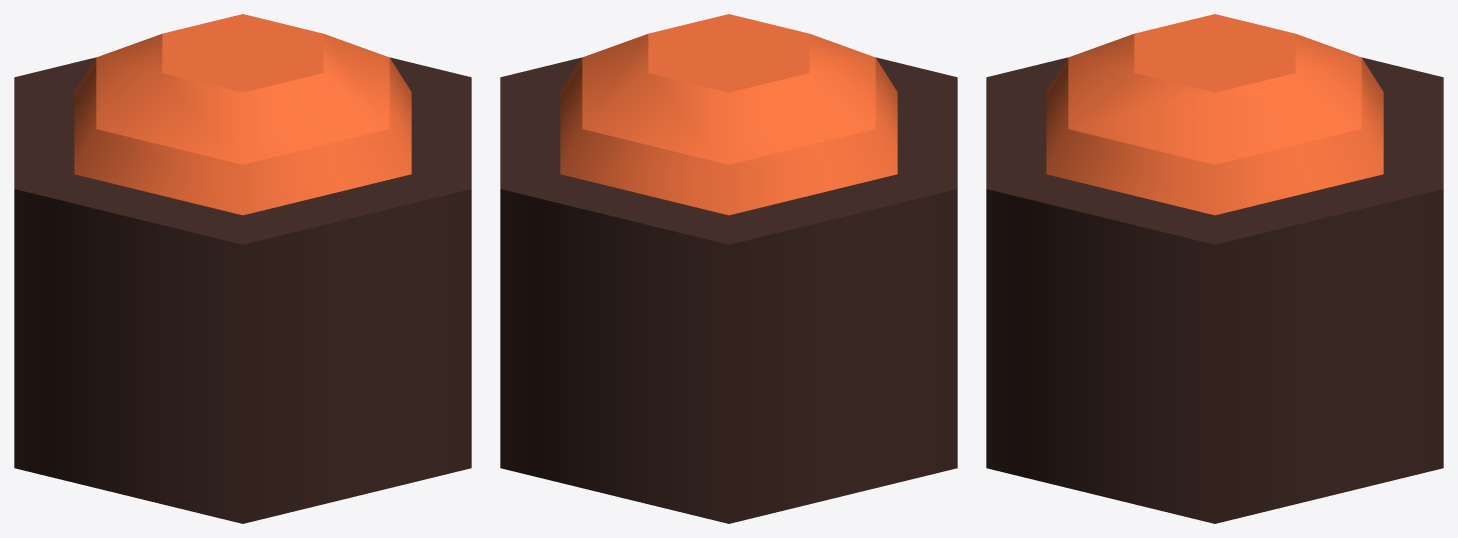
Rendered from makiRoe.obj.
3 views of the same model, side by side, from view 1: azimuth 30°, elevation 25°; view 2: azimuth 150°, elevation 25°; view 3: azimuth 270°, elevation 25° (orthographic).
Visible parts, largest first — view 1: makiRoe; view 2: makiRoe; view 3: makiRoe.
Boxes of the visible parts, <box> form: makiRoe: <box>14,14,471,523</box>; makiRoe: <box>500,14,957,523</box>; makiRoe: <box>986,14,1443,523</box>.
Bounding box in the file's own units: 0.12 × 0.09 × 0.1039.
